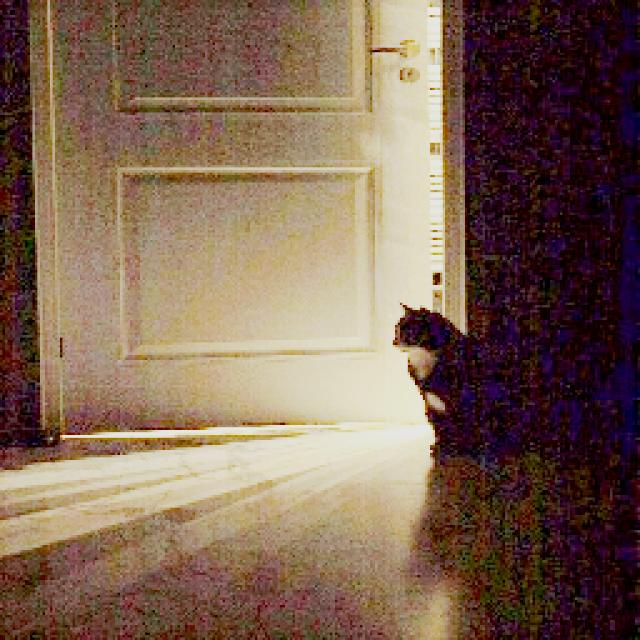cat: (380, 290, 560, 510)
